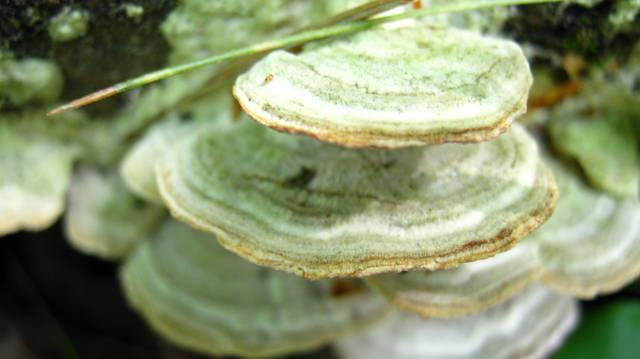Non-edible Mushroom: (0, 21, 640, 355)
